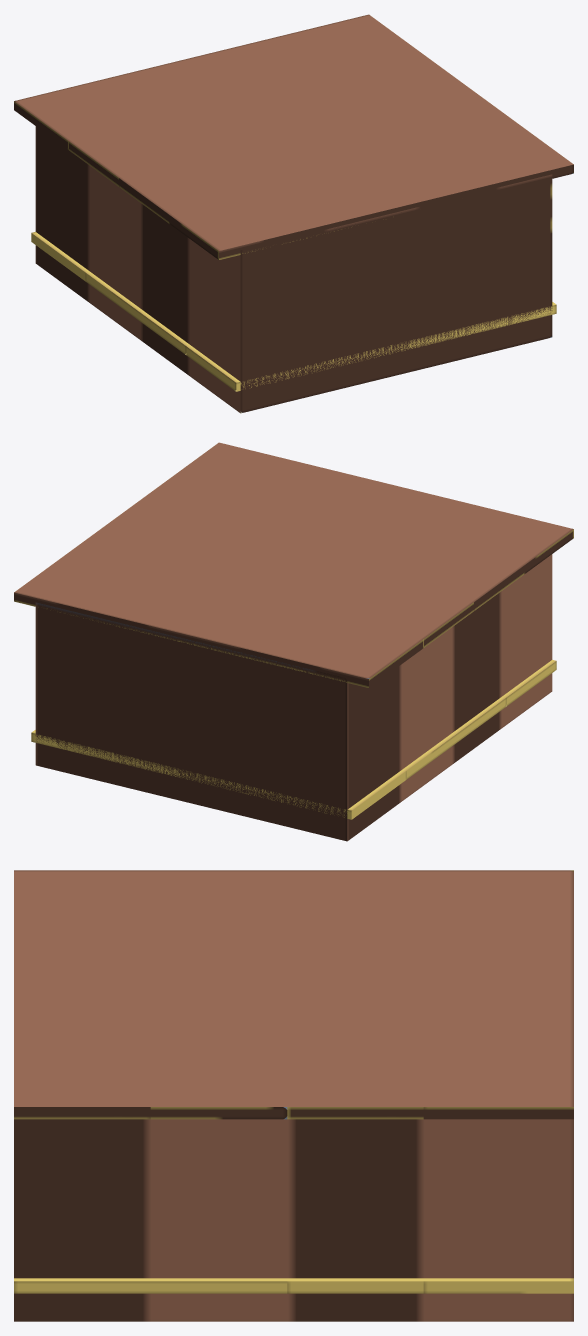
Rendered from tablemid.obj.
3 renders of one model, top to bottom at view 1: azimuth 30°, elevation 25°; view 2: azimuth 150°, elevation 25°; view 3: azimuth 270°, elevation 25°, orthographic. The views are drawn at different scales.
Visible parts, largest first — view 1: cube; view 2: cube; view 3: cube.
Boxes of the visible parts, left/top/right/bottom form: cube: left=14, top=14, right=573, bottom=413; cube: left=14, top=442, right=573, bottom=841; cube: left=14, top=870, right=573, bottom=1321.
Size of the model in its own units: 4.1 by 1.85 by 4.1.
